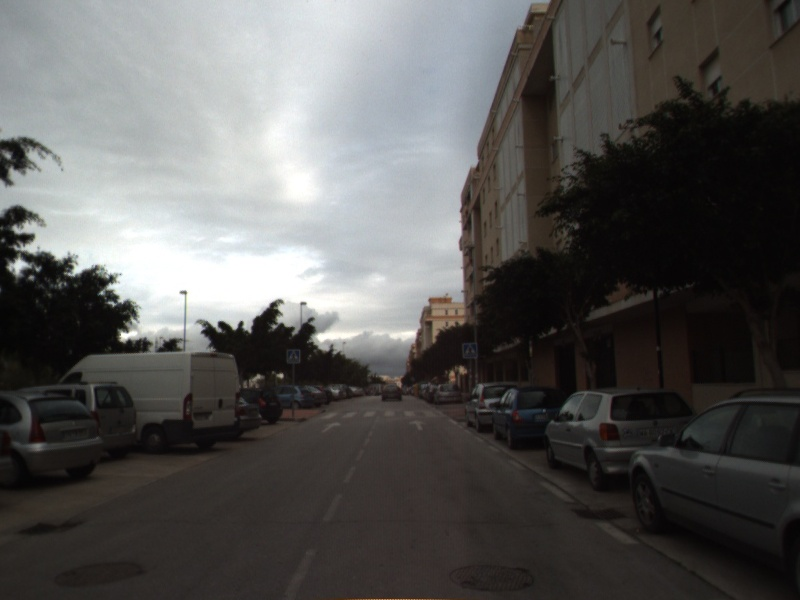STRAIGHT: (319, 420, 344, 434), (407, 418, 429, 432)
